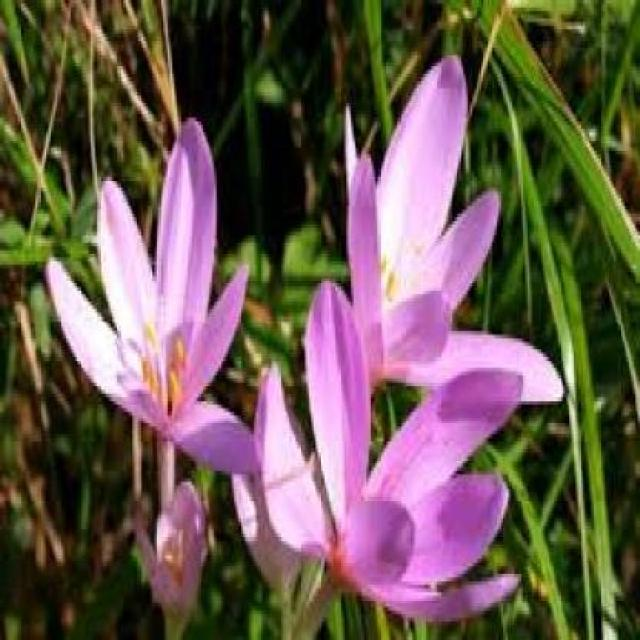saffron open: (255, 282, 519, 620), (46, 120, 249, 507), (349, 58, 561, 402)
